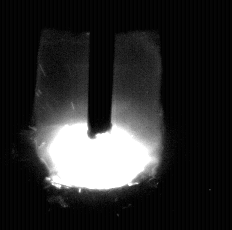arame: (88, 0, 113, 139)
poca: (34, 0, 164, 230)
